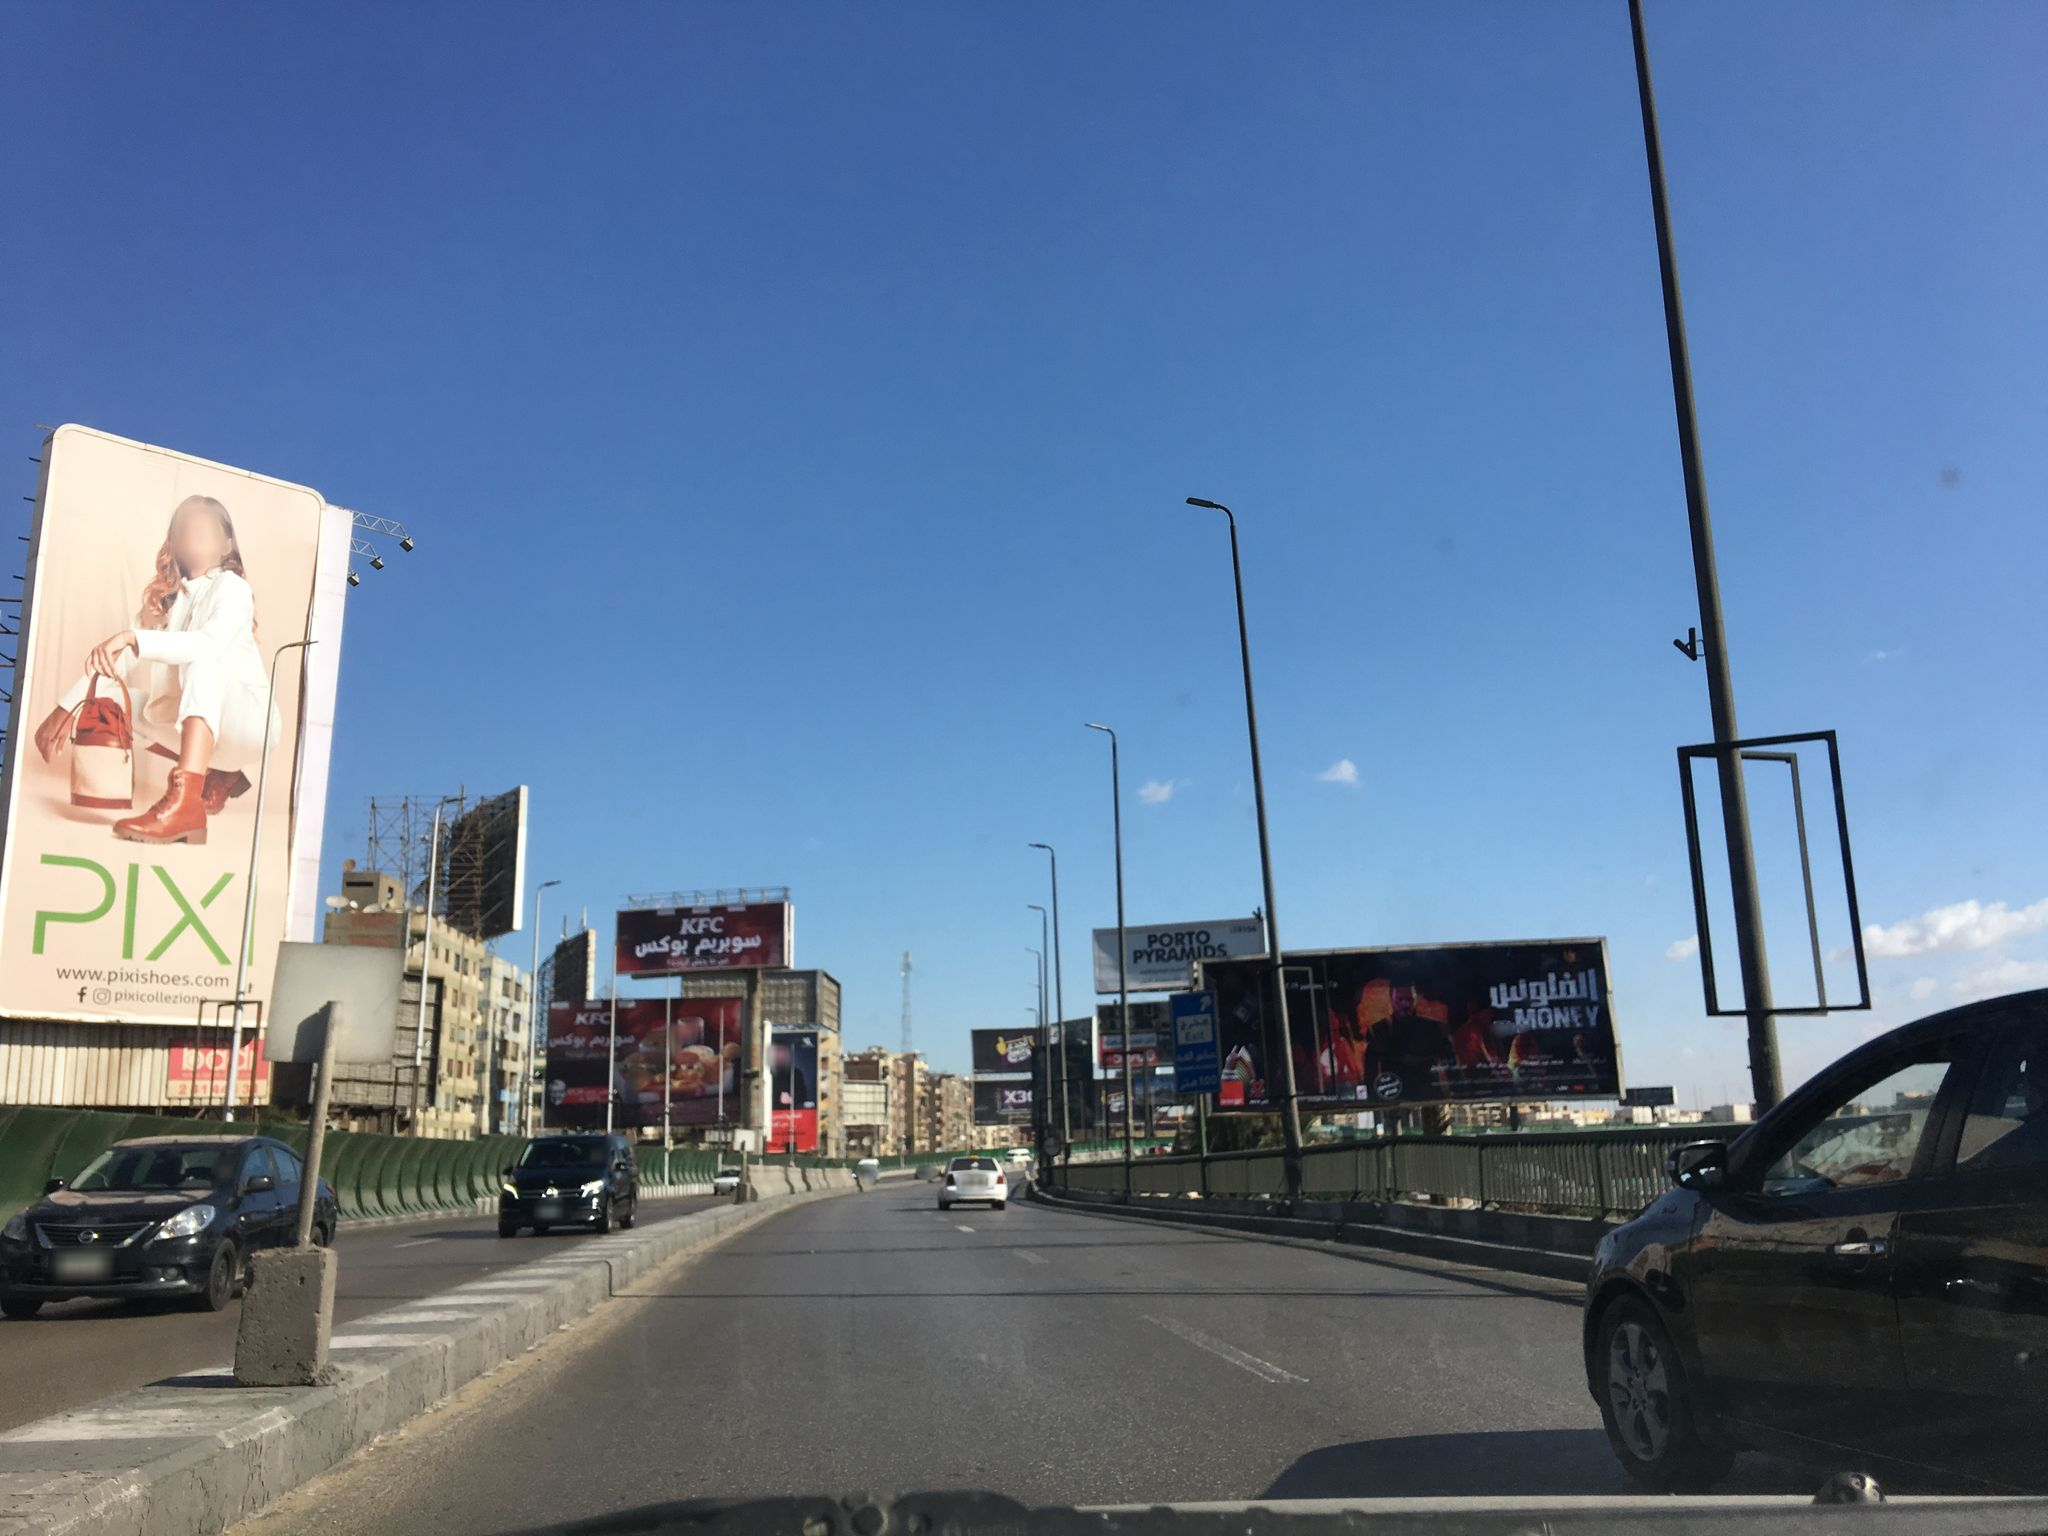car: (1576, 989, 2048, 1496), (0, 1133, 340, 1313), (497, 1133, 639, 1234), (939, 1154, 1009, 1208), (713, 1165, 740, 1197)
